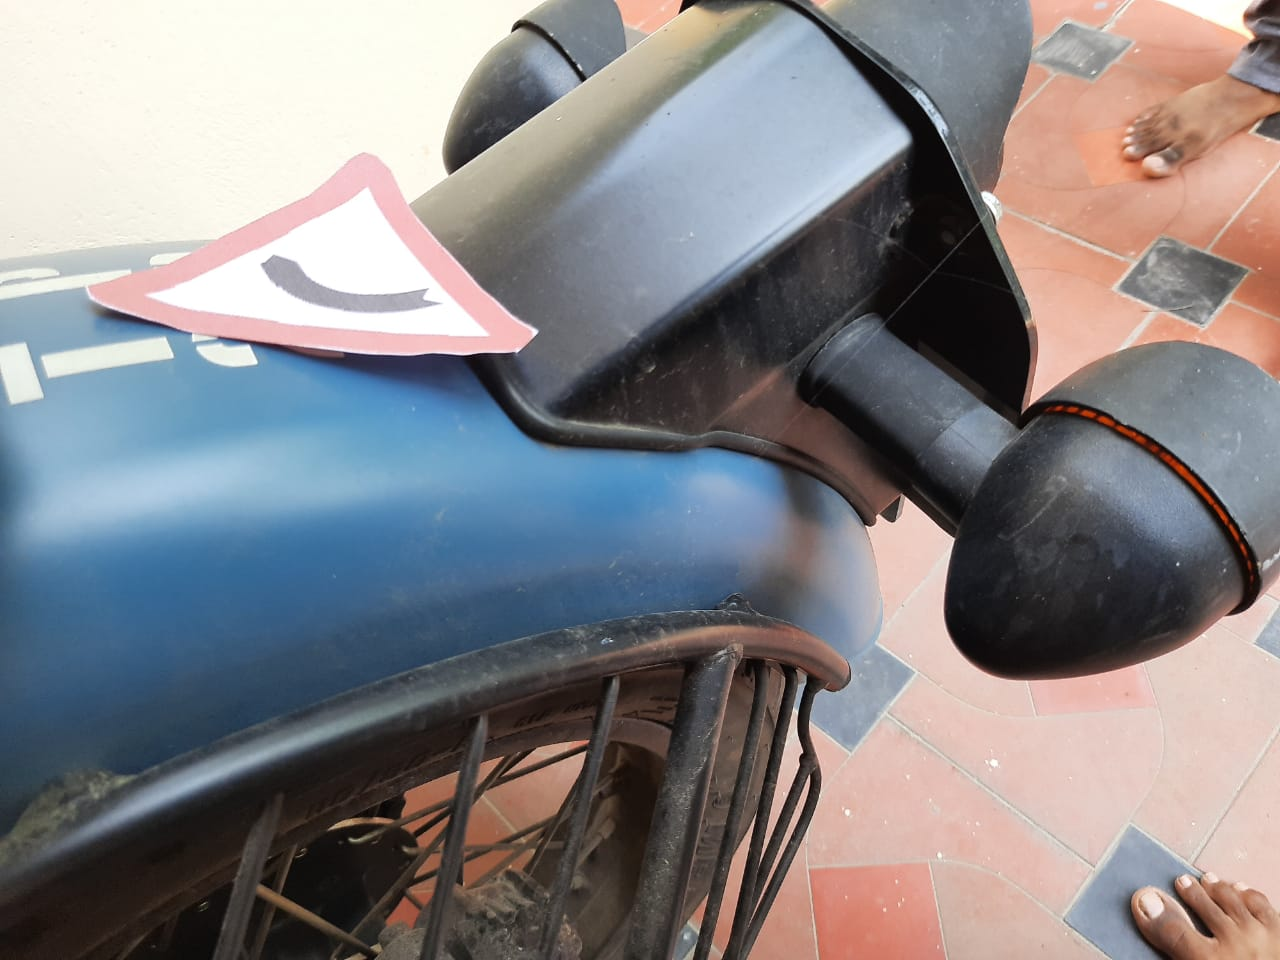RIGHT CURVE: (74, 138, 555, 350)
